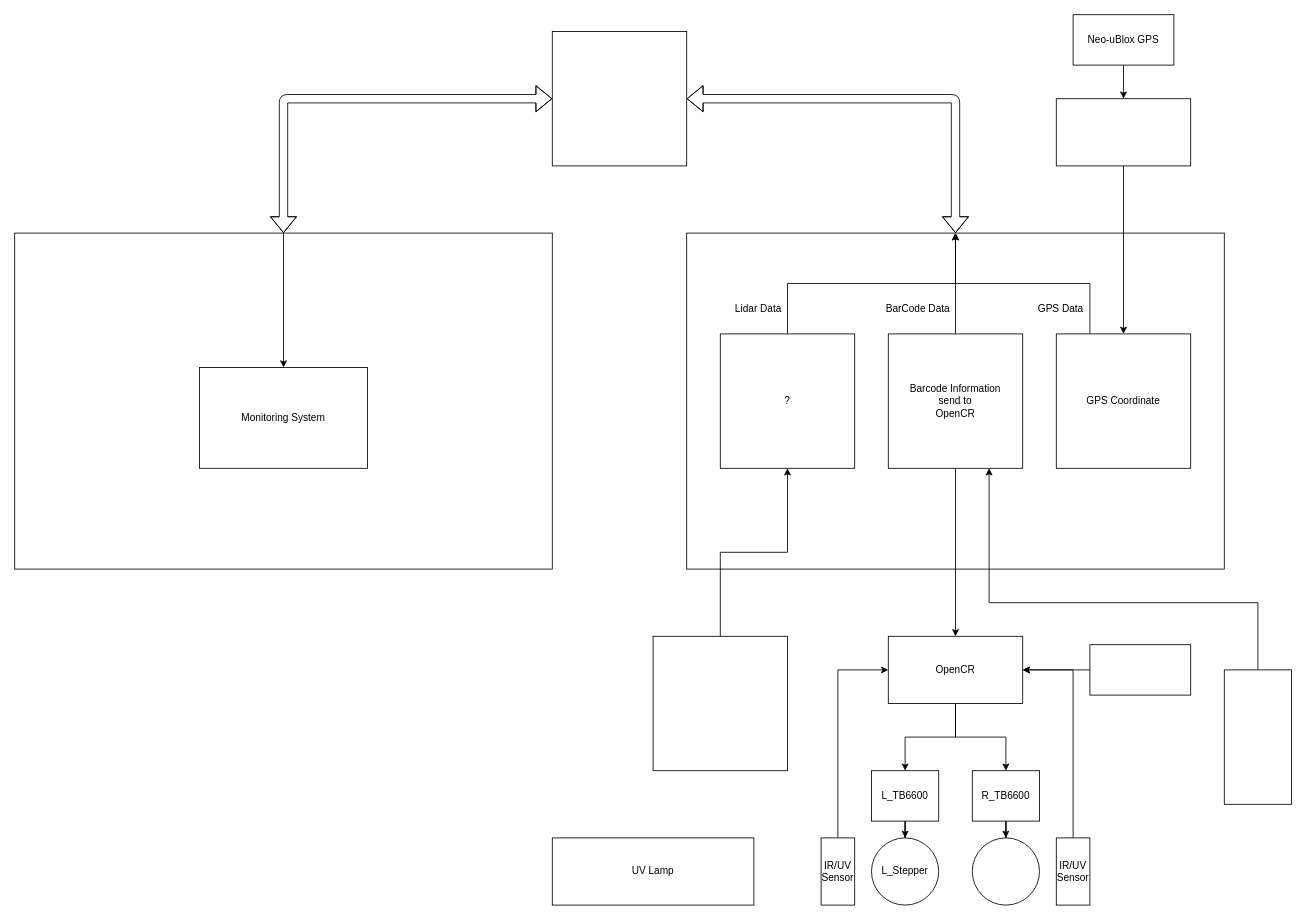
This 1306x920 diagram has some shape labels left out. Here are the shapes that lost their labels. From the top down, the centre of each, then its label:
point (619, 98): Wireless Router
point (1123, 132): STM32
point (1140, 669): Ultrasonic Sensor
point (720, 703): YDLidar X4
point (1257, 736): BarCode Reader
point (1005, 871): R_Stepper
